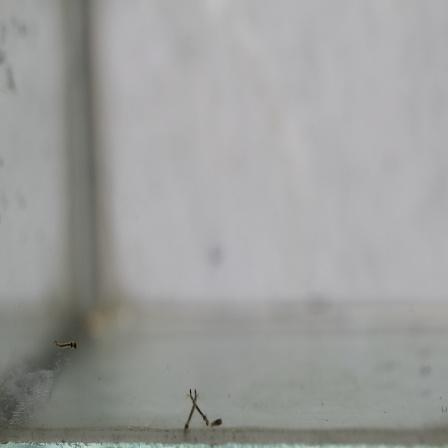Jentik-Nyamuk: (181, 386, 211, 434), (52, 338, 80, 355), (212, 417, 224, 429)
